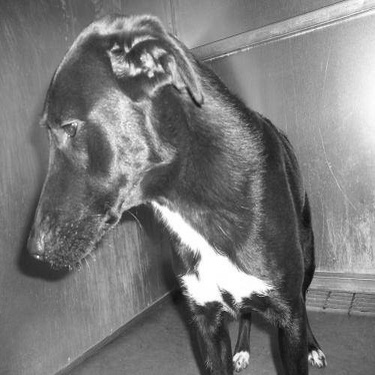dog: (18, 2, 335, 372)
